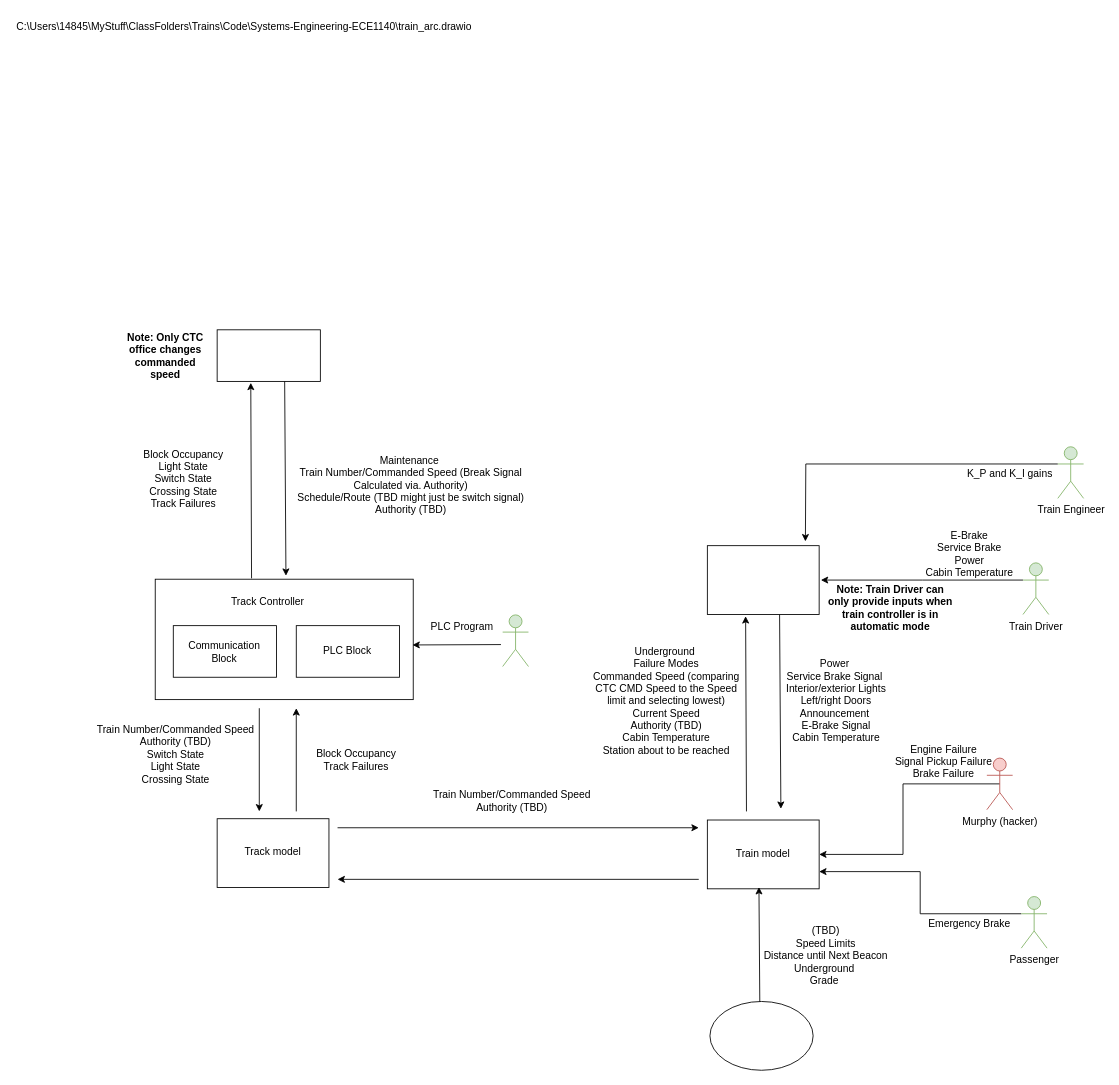
This 1119x1085 diagram has some shape labels left out. The shapes that lost their labels are listed below. From the top down, each one's box as (x1, y1, x2, y2) in pixels, then its label:
(216, 329, 320, 381): CTC Office
(706, 545, 819, 614): Train Controller
(502, 614, 528, 666): Programmer
(709, 1001, 813, 1070): Beacon
